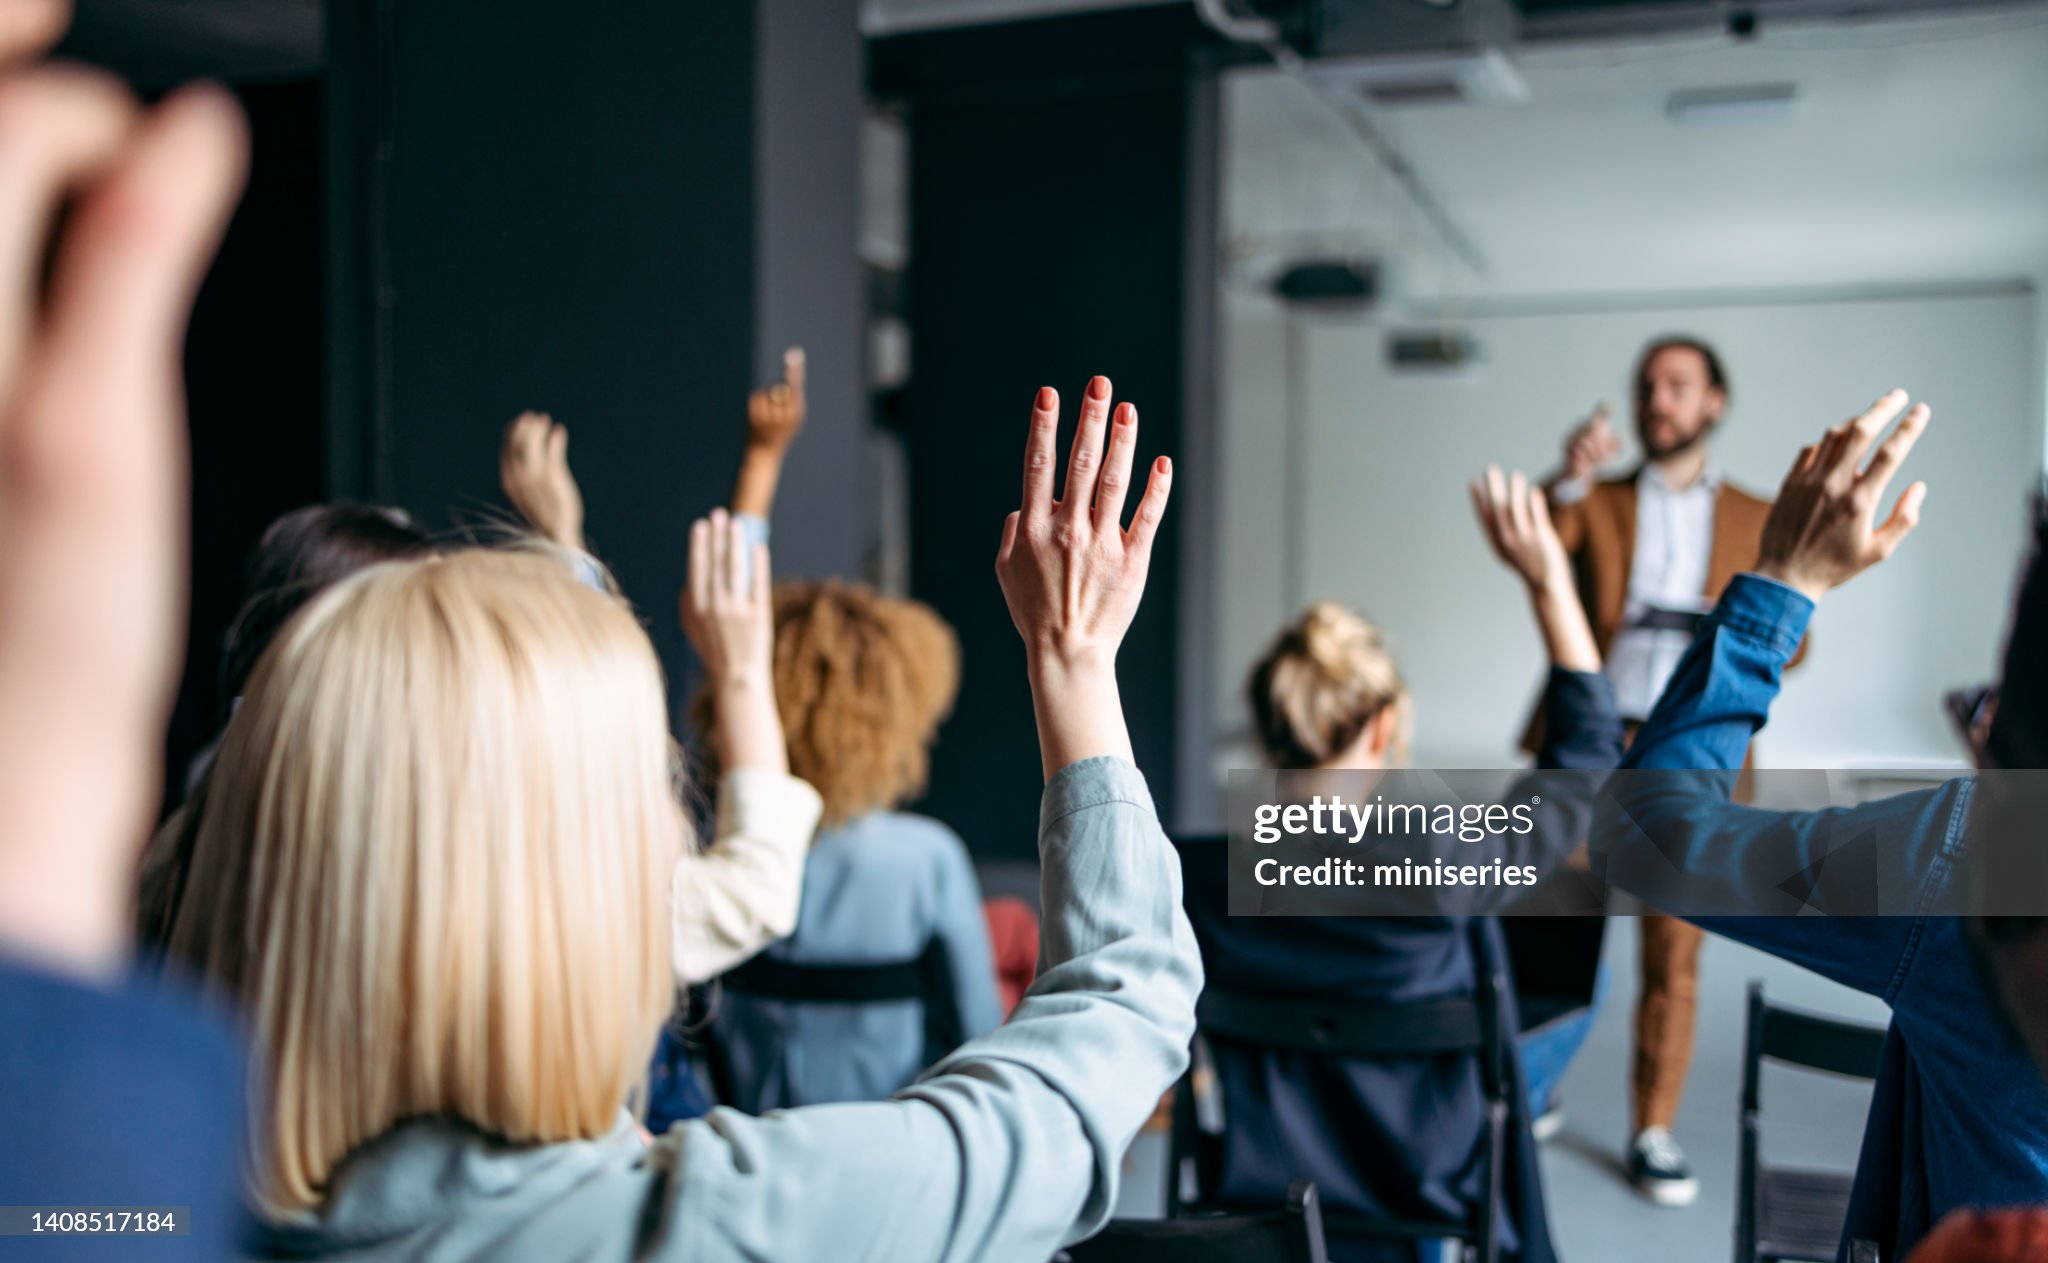mais-de-75-porcento: (4, 4, 2047, 1257)
